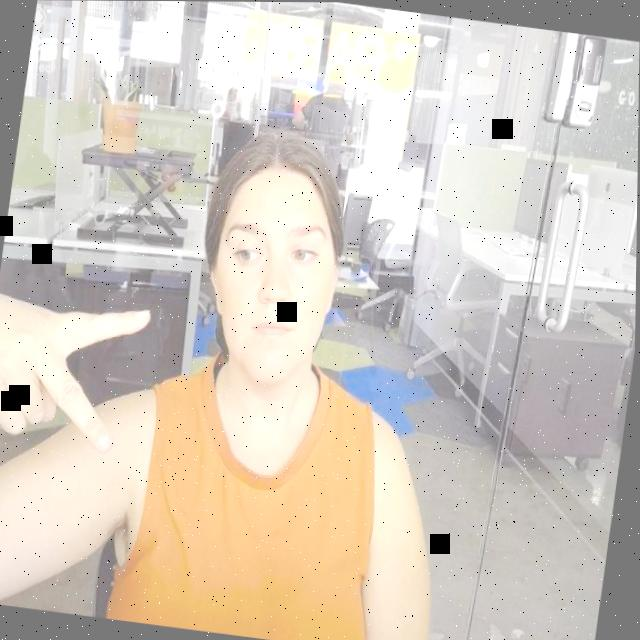Paper: (304, 2, 428, 106)
Scissors: (0, 270, 201, 489)
